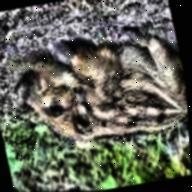boar: (3, 12, 190, 156)
